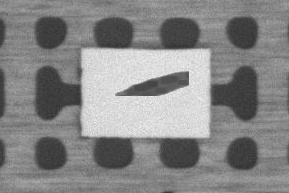DIE_INK: (114, 69, 189, 96)
